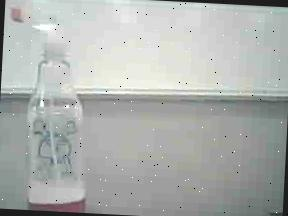hazard: (0, 0, 106, 213)
